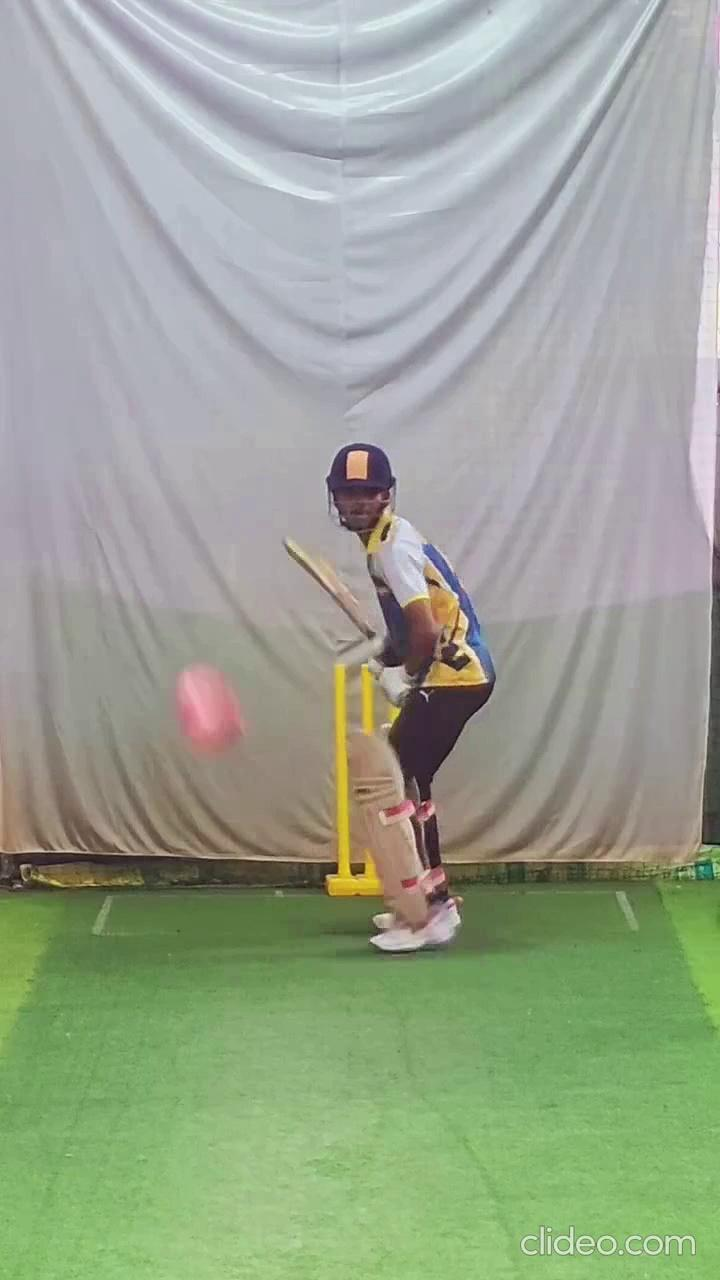bat: (273, 522, 387, 643)
